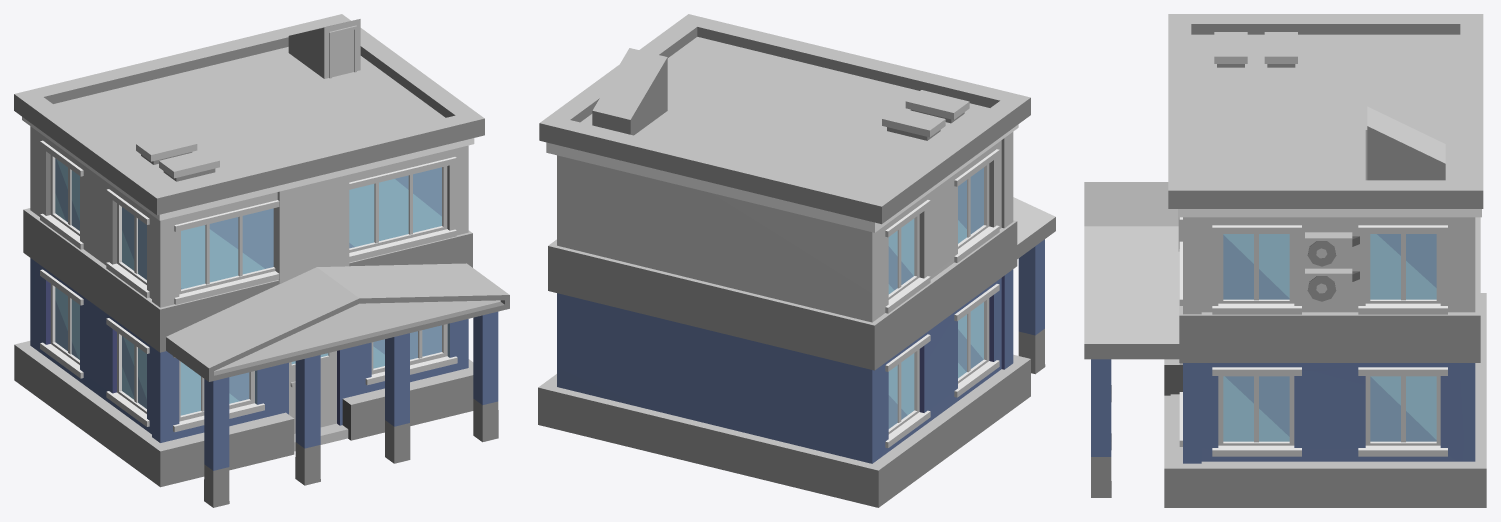
Rendered from bank_007.glb.
3 renders of one model, left to right at view 1: azimuth 30°, elevation 25°; view 2: azimuth 150°, elevation 25°; view 3: azimuth 270°, elevation 25°, orthographic. The views are drawn at different scales.
Parts seen in each view (by area): view 1: bank_007; view 2: bank_007; view 3: bank_007.
Boxes of the visible parts, box(x1,y1,x2,y2) form: bank_007: box(14, 14, 509, 507); bank_007: box(538, 14, 1055, 507); bank_007: box(1084, 14, 1486, 507).
Size of the model in its own units: 7.14 by 6.88 by 6.87.
1 material, 1 textured.
